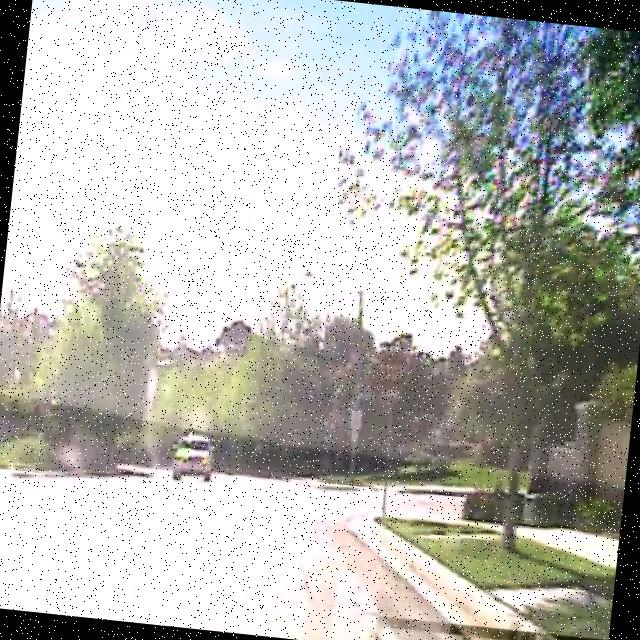Stop: (370, 352, 414, 396)
